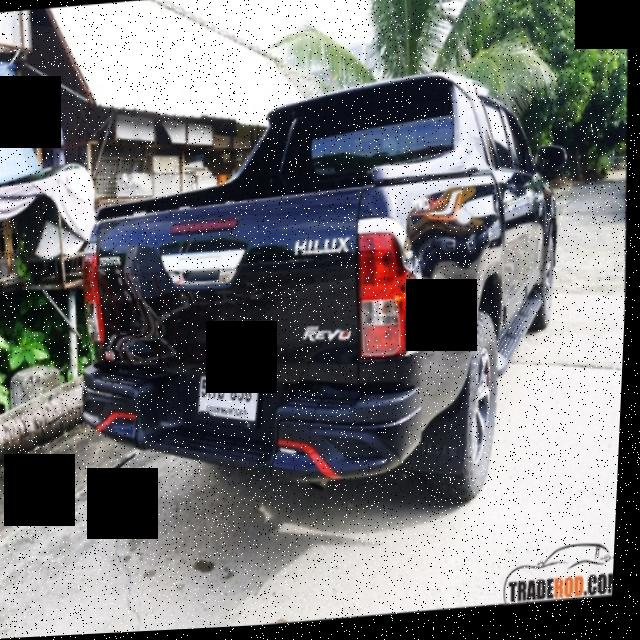text: (202, 378, 261, 423)
